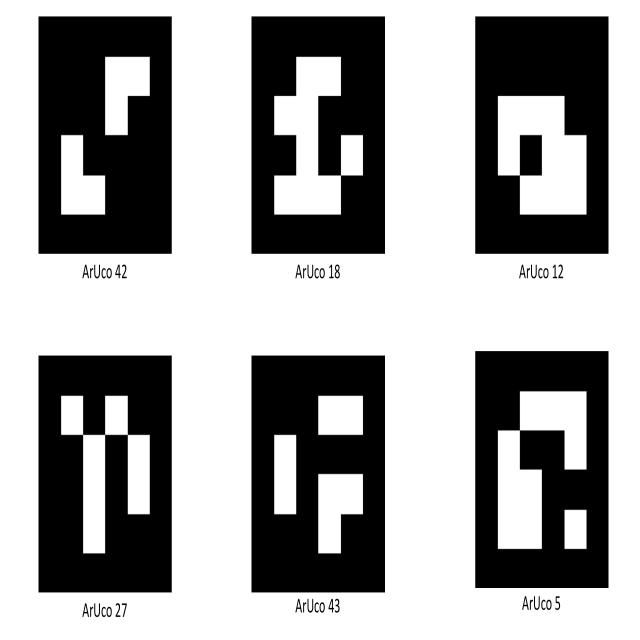aruco: (37, 14, 179, 262), (472, 347, 612, 596), (249, 15, 390, 258), (35, 350, 174, 596), (252, 345, 385, 599), (473, 15, 611, 256)
